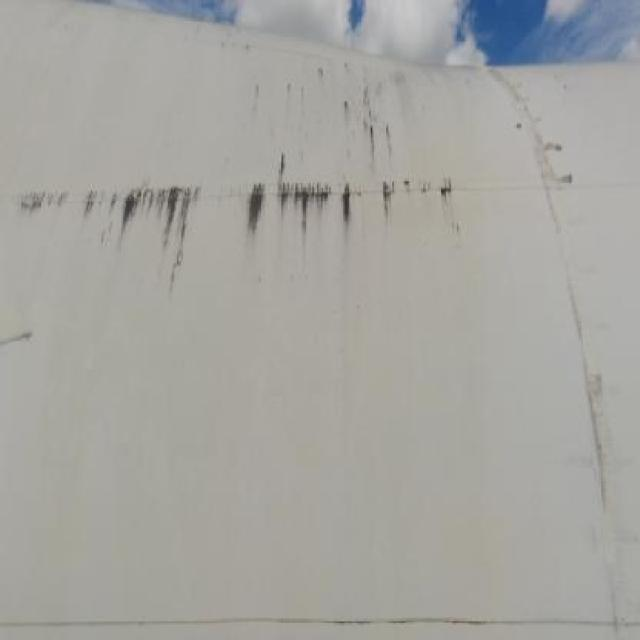Scartch: (14, 152, 509, 288), (0, 326, 46, 356)
